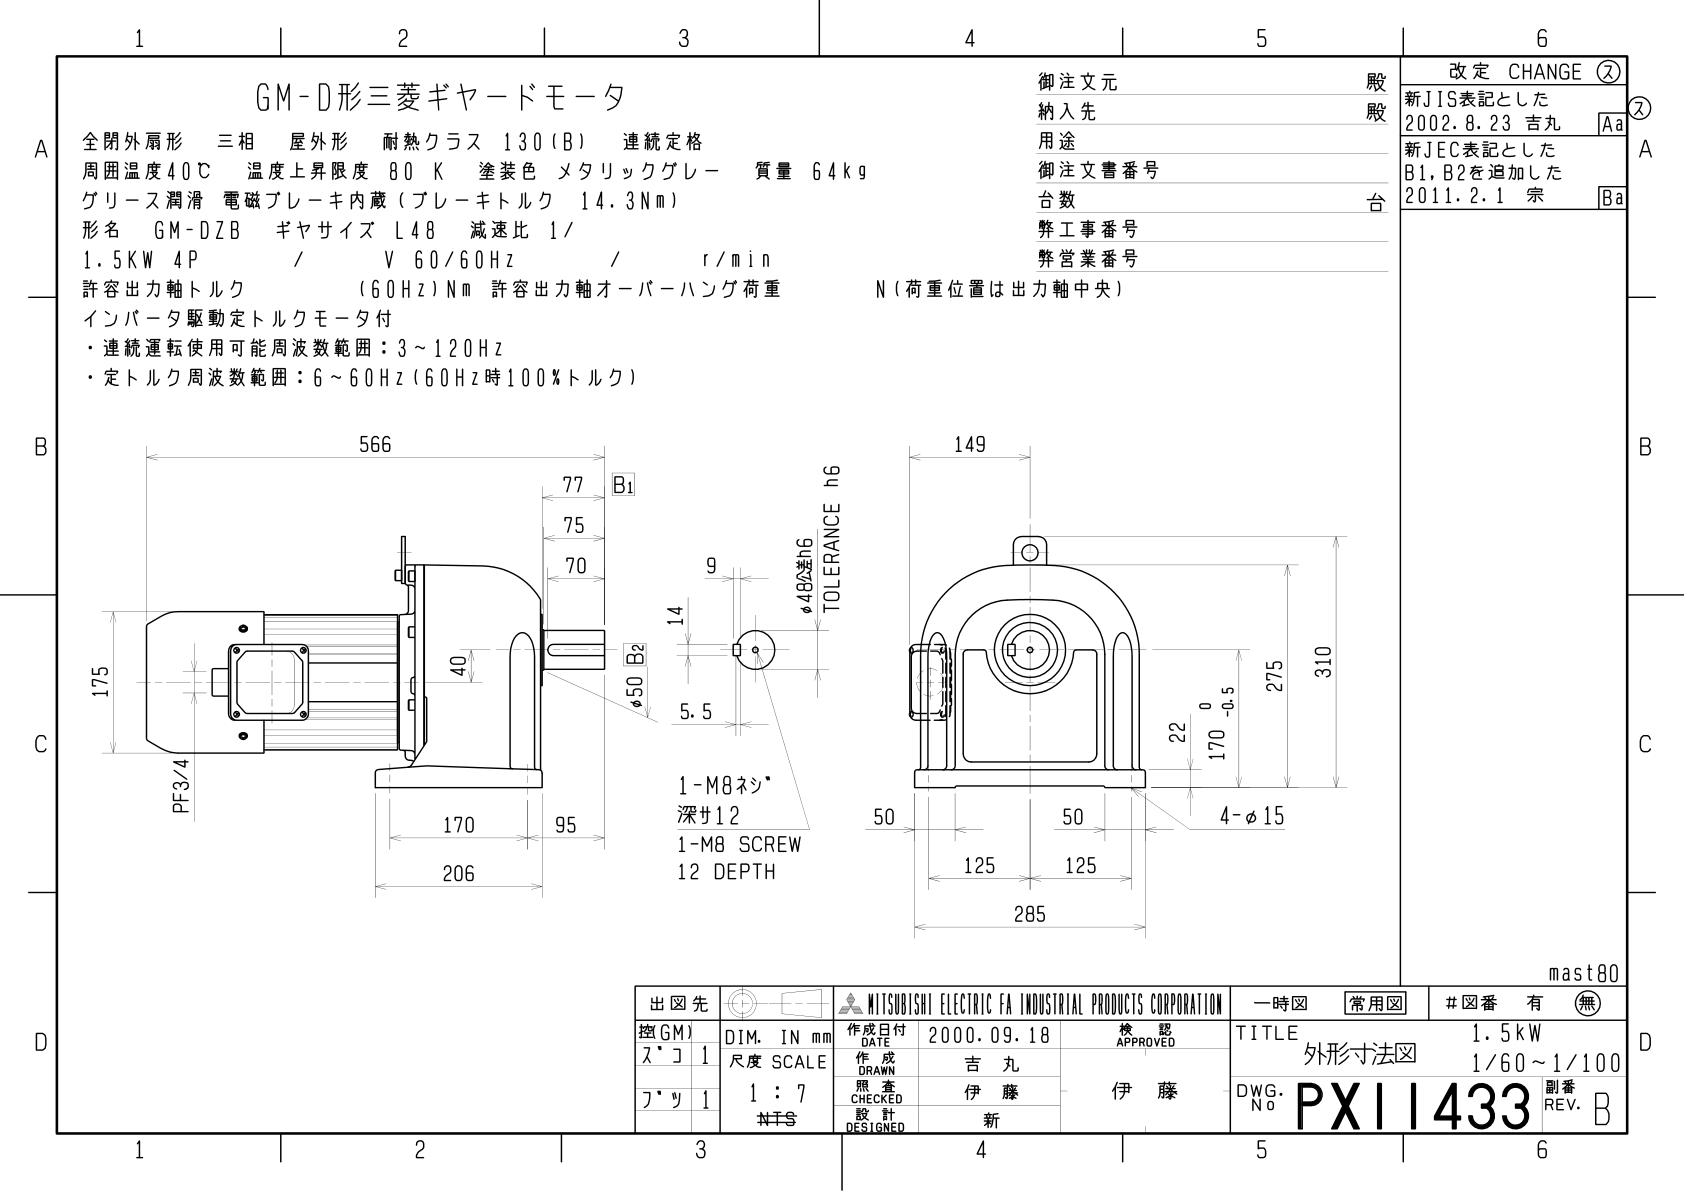GM_D_インバータ屋外_三相_脚: (63, 418, 1385, 955)
